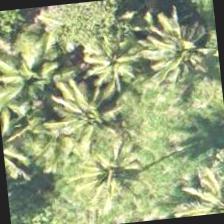Kelapa_Sawit: (72, 124, 171, 223), (47, 70, 146, 169), (56, 11, 155, 110), (132, 6, 222, 105), (0, 25, 84, 124), (183, 163, 223, 217)
